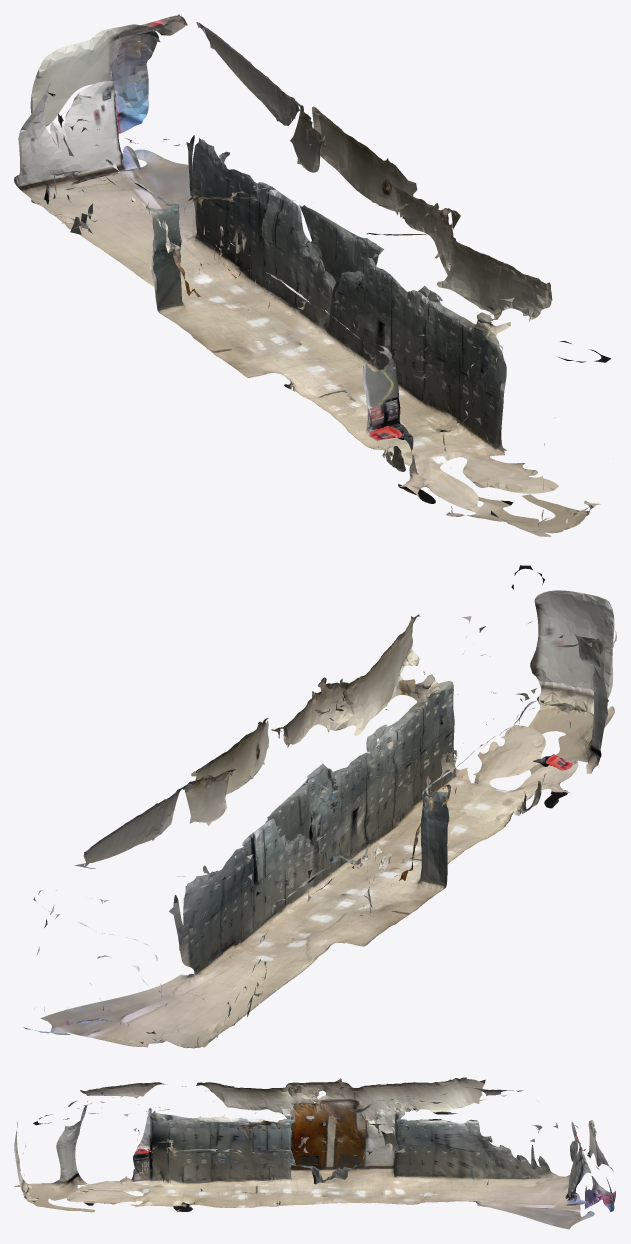
Rendered from room3.glb.
3 renders of one model, top to bottom at view 1: azimuth 30°, elevation 25°; view 2: azimuth 150°, elevation 25°; view 3: azimuth 270°, elevation 25°, orthographic. The views are drawn at different scales.
Parts seen in each view (by area): view 1: Mesh_1, Mesh_0, Mesh_2; view 2: Mesh_0, Mesh_1, Mesh_2; view 3: Mesh_1, Mesh_0, Mesh_2.
Boxes of the visible parts, bbox=[...] form: Mesh_1: bbox=[18, 24, 600, 536]; Mesh_0: bbox=[14, 14, 610, 536]; Mesh_2: bbox=[69, 102, 506, 413]; Mesh_0: bbox=[33, 565, 616, 1047]; Mesh_1: bbox=[23, 570, 614, 1048]; Mesh_2: bbox=[185, 698, 570, 896]; Mesh_1: bbox=[14, 1077, 615, 1224]; Mesh_0: bbox=[14, 1078, 614, 1229]; Mesh_2: bbox=[143, 1079, 506, 1207].
Bounding box in the file's own units: 4.38 × 3.46 × 18.59.
Materials: 3 (3 with a texture image).
